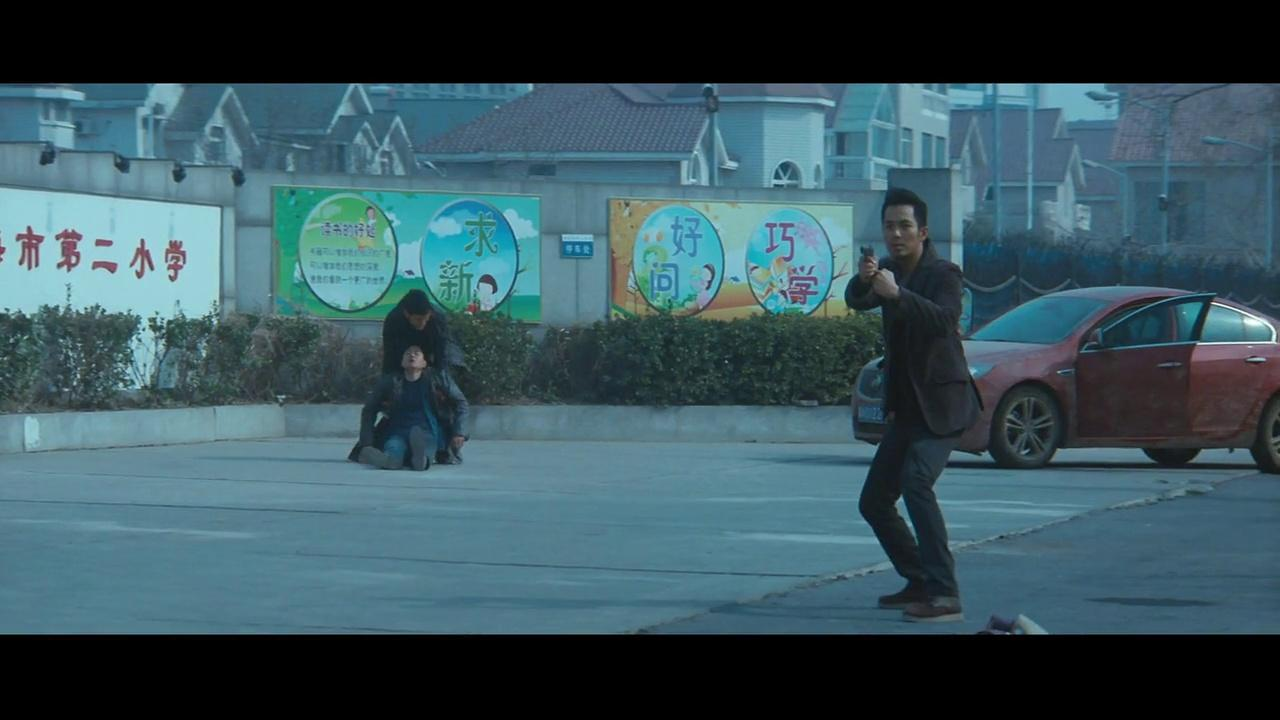gun: (854, 243, 876, 278)
